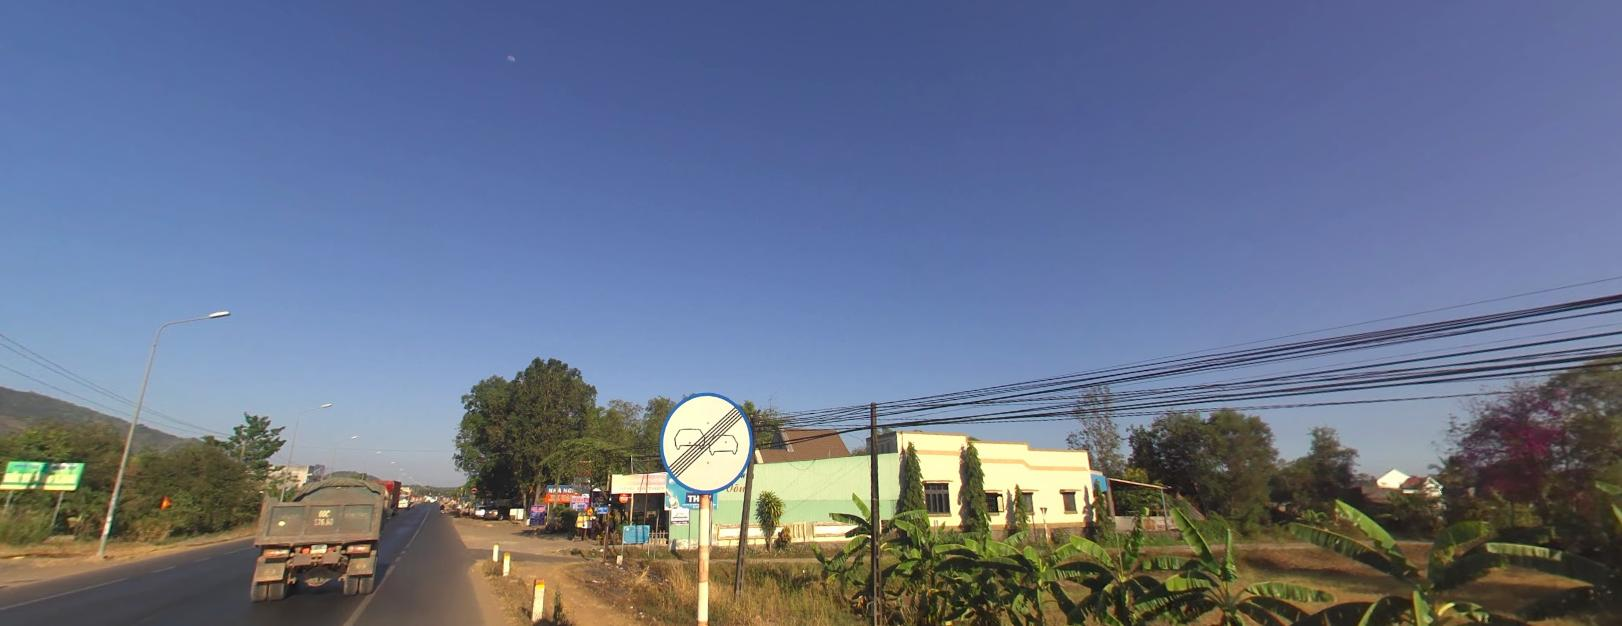Cam con lai: (658, 389, 754, 495), (469, 485, 477, 493)
